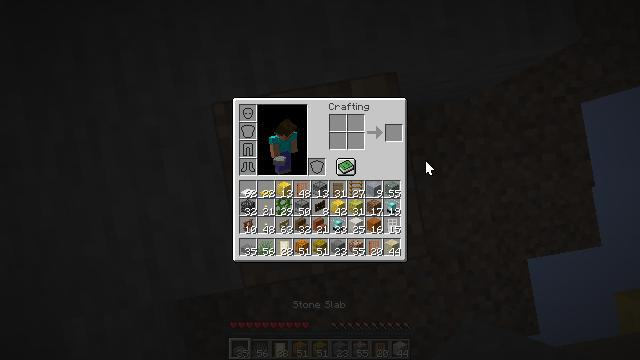cursor: (425, 160, 435, 176)
